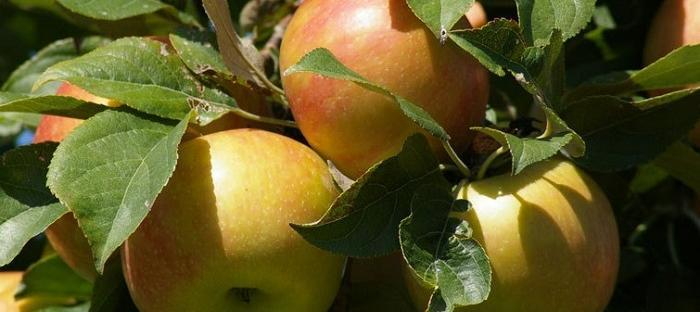apple: (120, 128, 344, 311), (285, 2, 487, 170), (396, 160, 619, 307)
